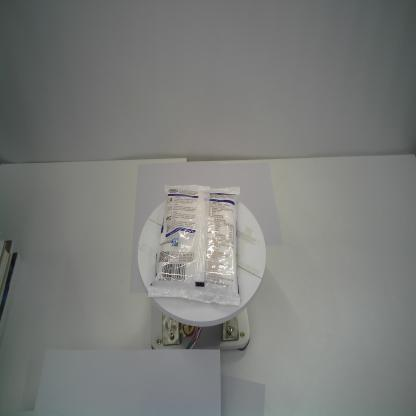Seasoner: (145, 183, 242, 308)
